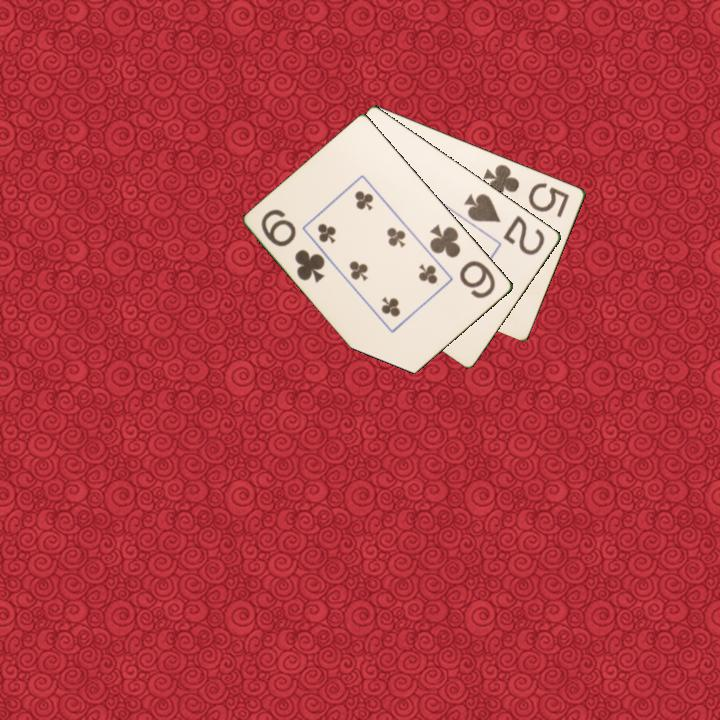2s: (460, 190, 548, 258)
5c: (479, 160, 573, 220)
6c: (426, 221, 499, 302), (257, 205, 329, 286)
